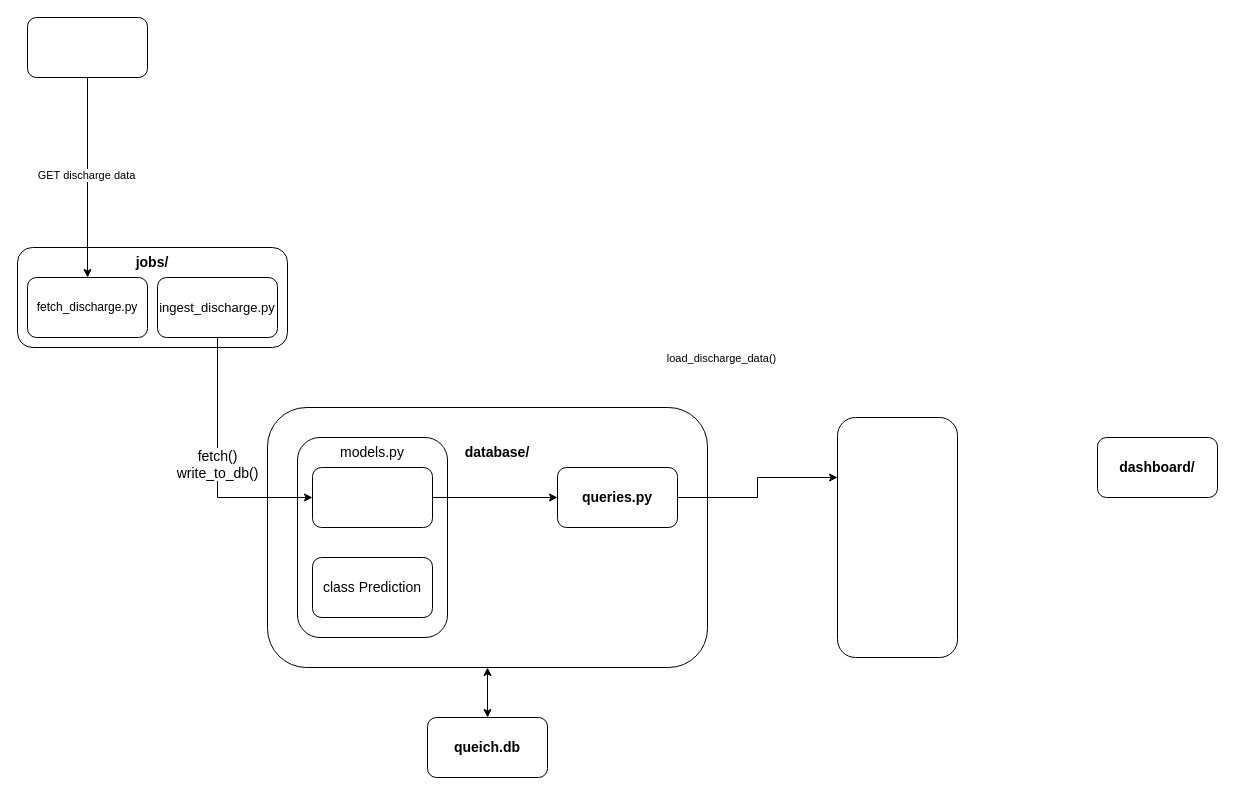
This 1235x795 diagram has some shape labels left out. The box of each missing label's shape, as (x1, y1, x2, y2) in pixels:
api/: (836, 416, 958, 658)
class Discharge: (312, 466, 432, 528)
geodaten-wasser.rlp-umwelt.de: (26, 16, 148, 78)
